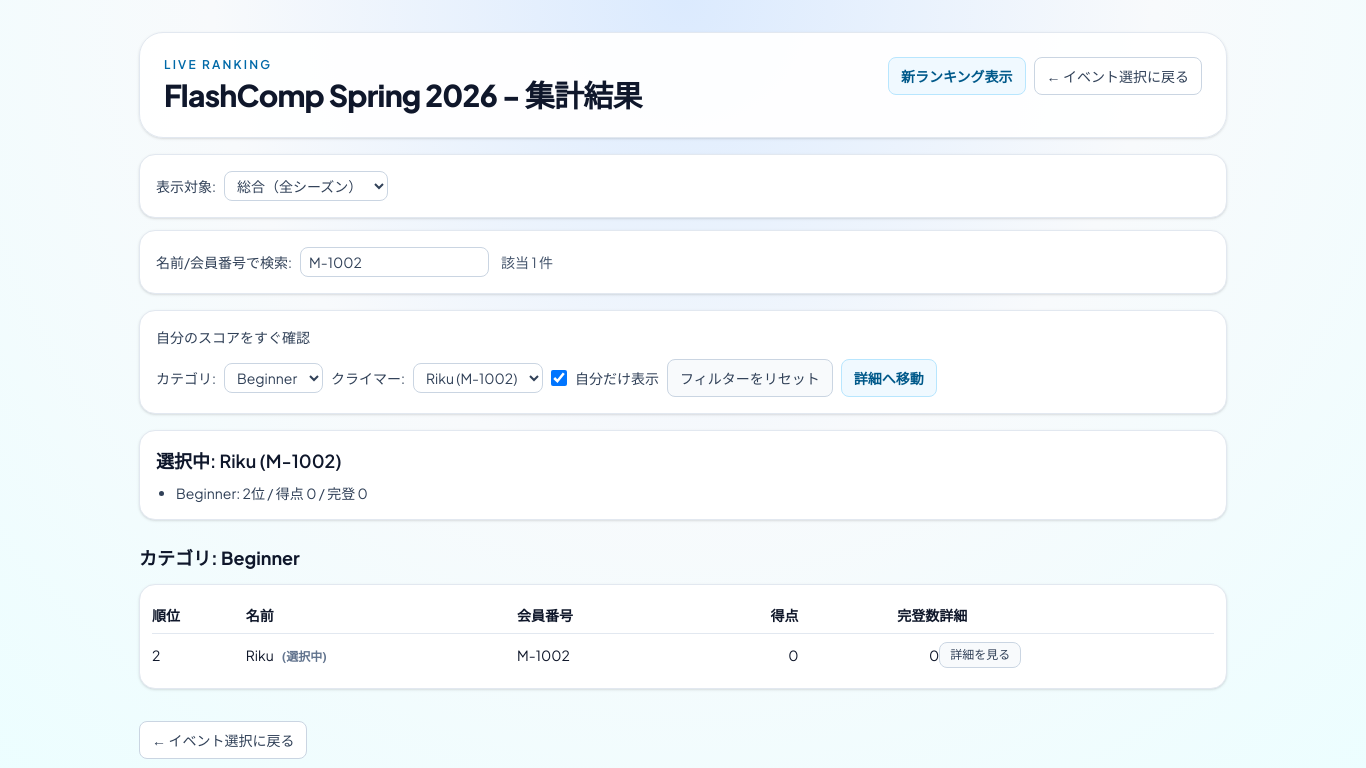
Test: EventSummary › shows selected participant only and resets quick filters
Expected: the heading "FlashComp Spring 2026 - 集計結果" is shown, top-left (164, 77), bottom-right (642, 113)
Expected: the heading "選択中: Riku (M-1002)" is shown, top-left (156, 449), bottom-right (342, 472)
Click the button "フィルターをリセット". click: (750,378)
box: top-left (667, 359), bottom-right (833, 397)
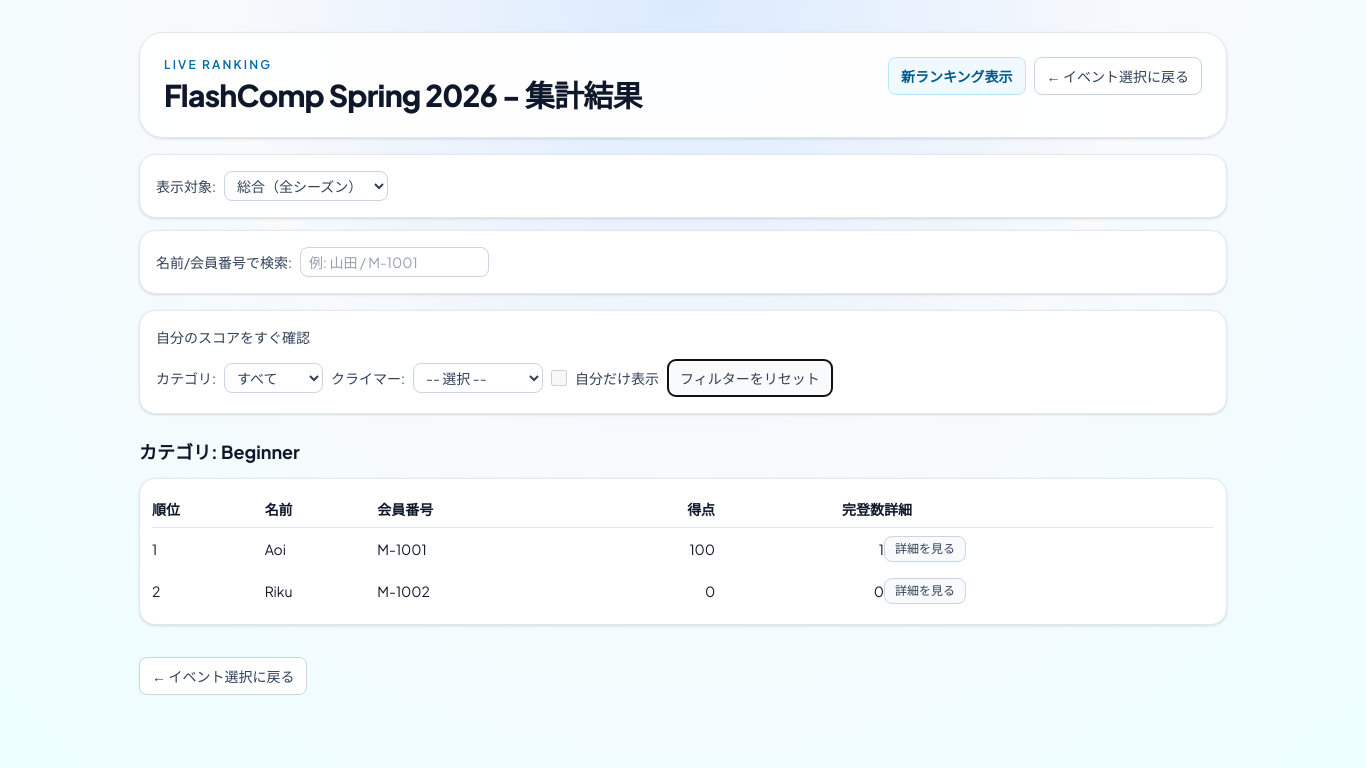
Expected: the dropdown labelled "カテゴリ:" shows "すべて", top-left (224, 363), bottom-right (323, 393)
Expected: the dropdown labelled "クライマー:" shows "-- 選択 --", top-left (413, 363), bottom-right (543, 393)
Expected: the field with placeholder "例: 山田 / M-1001" is empty, top-left (300, 247), bottom-right (489, 277)
